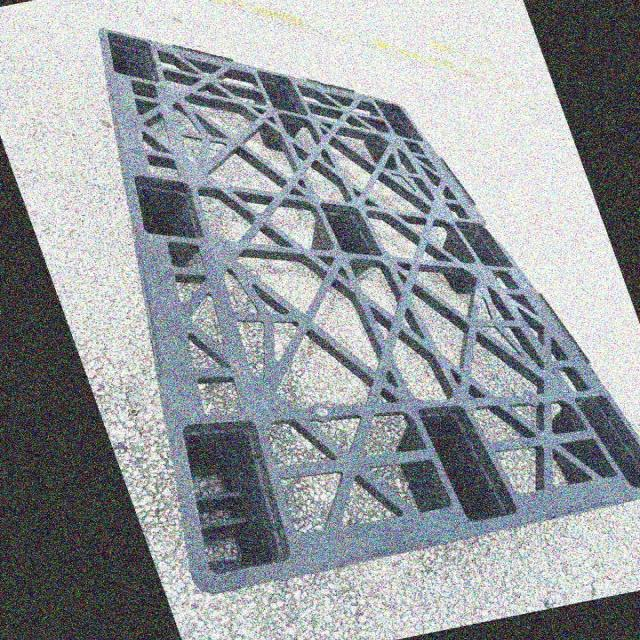non-igps: (85, 19, 640, 600)
